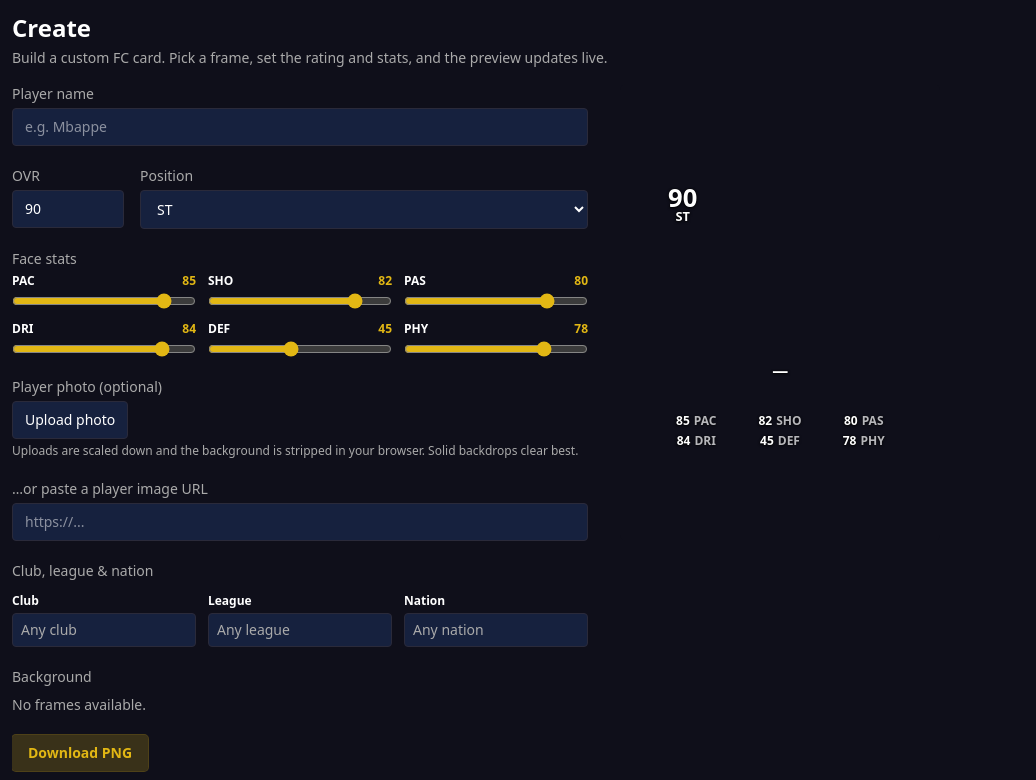
Test: name input updates the live preview
Type "Zlatan" into the field with placeholder "e.g. Mbappe" at (300, 127), box [12, 108, 588, 146]
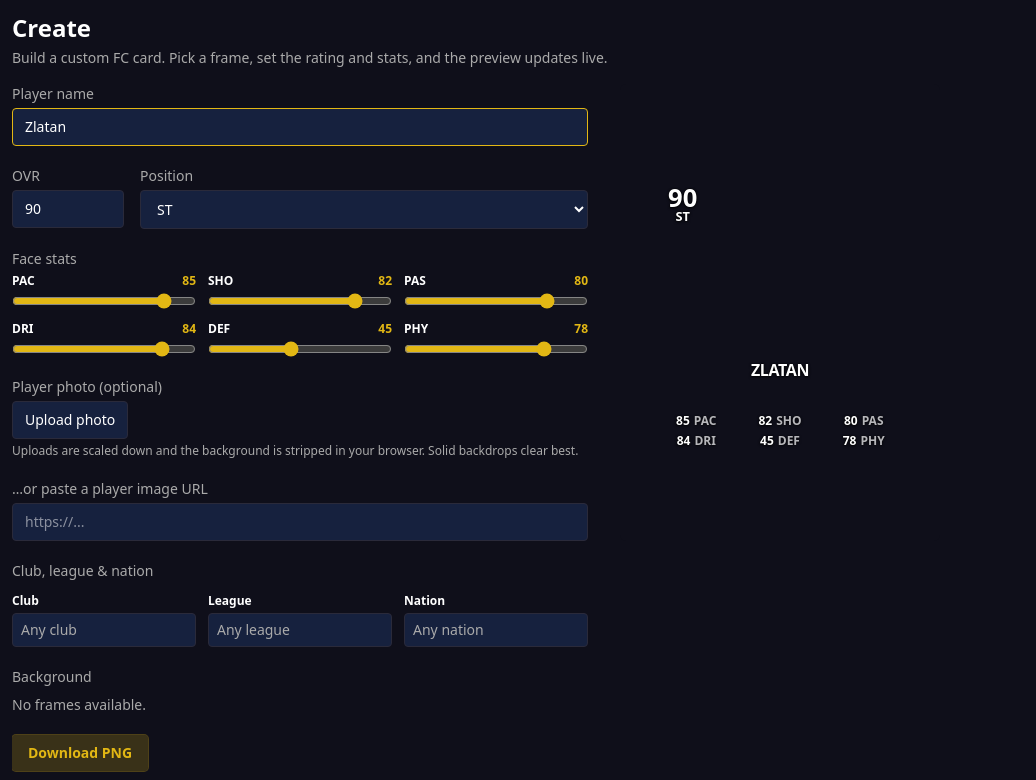
Expected: the text "Zlatan" is shown, [751, 359, 809, 381]
